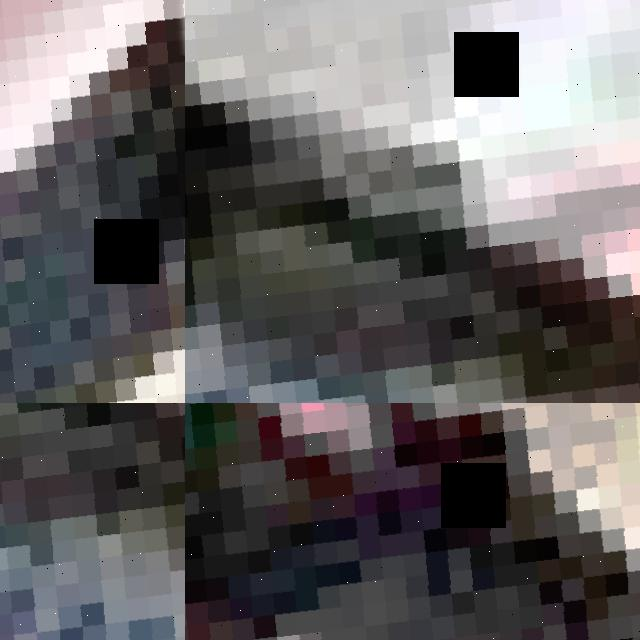arms: (185, 0, 640, 403), (185, 403, 640, 640), (0, 0, 185, 403), (0, 403, 185, 640)
